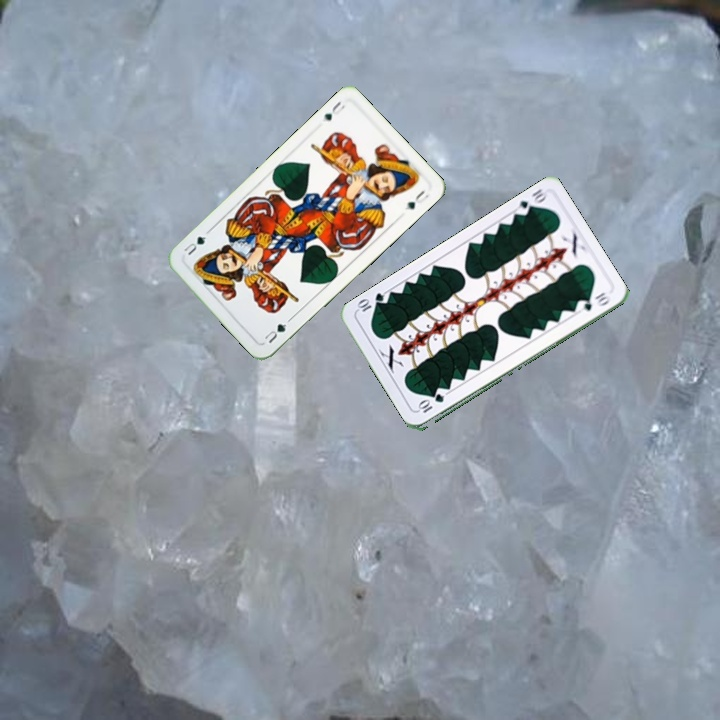G10: (511, 185, 550, 218), (415, 391, 446, 416)
GU: (318, 97, 348, 124), (259, 320, 289, 346)
